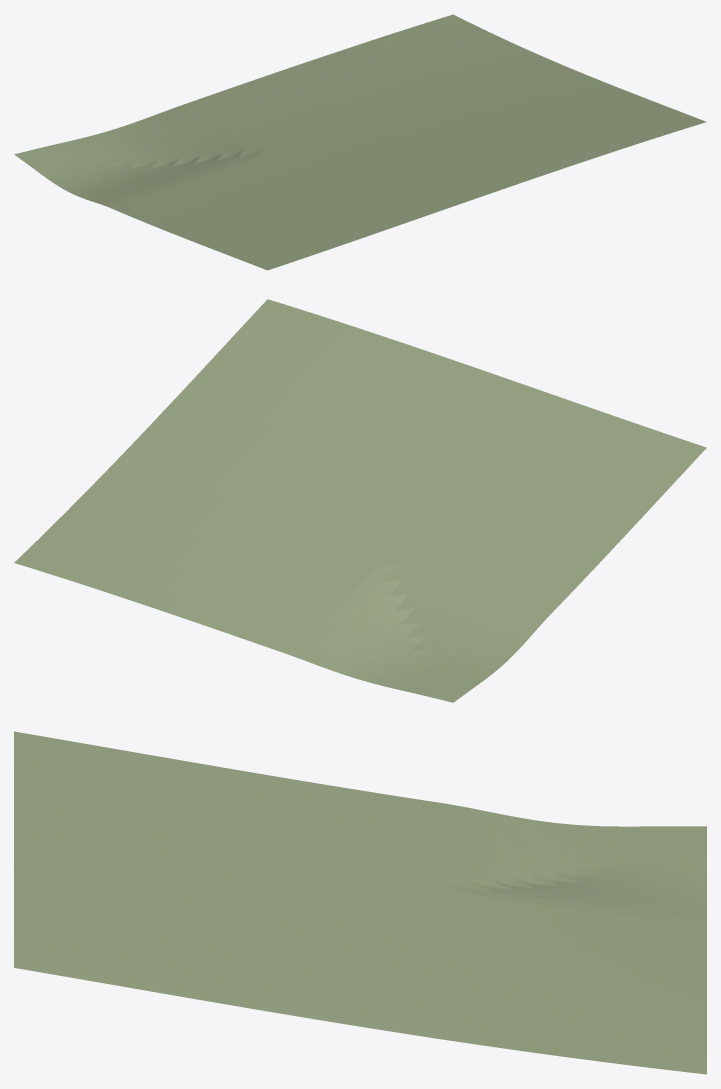
The model's file is valley-14-13.glb.
3 views of the same model, one above another, from view 1: azimuth 30°, elevation 25°; view 2: azimuth 150°, elevation 25°; view 3: azimuth 270°, elevation 25° (orthographic). The views are drawn at different scales.
Parts seen in each view (by area): view 1: valley-14-13; view 2: valley-14-13; view 3: valley-14-13.
Part boxes in pixels (x1,y1,x2,y2): valley-14-13: [14, 14, 706, 270]; valley-14-13: [14, 299, 706, 702]; valley-14-13: [14, 731, 706, 1074].
Bounding box in the file's own units: 256 × 61.94 × 256.
